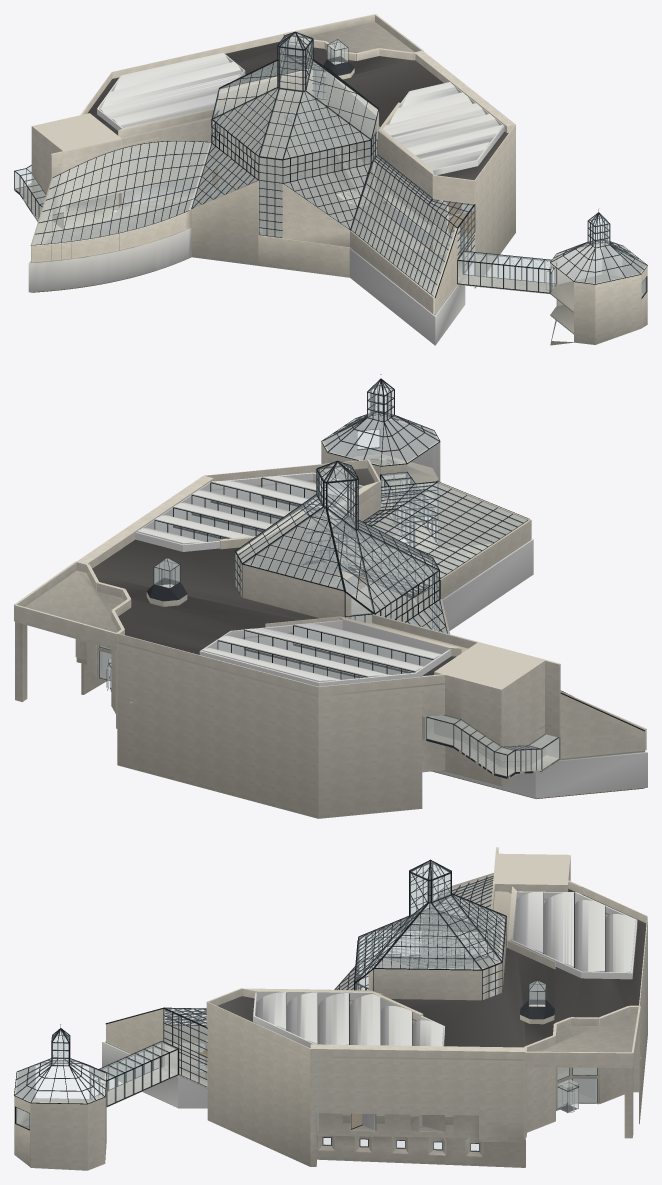
File: building.glb
The picture shows the model from 3 angles, top to bottom: view 1: azimuth 30°, elevation 25°; view 2: azimuth 150°, elevation 25°; view 3: azimuth 270°, elevation 25°; orthographic projection. The views are drawn at different scales.
Visible parts, largest first — view 1: building/walls, building/glass, building/ceilings, building/frames, building/floors; view 2: building/walls, building/glass, building/ceilings, building/frames, building/floors; view 3: building/walls, building/ceilings, building/glass, building/frames, building/floors.
Boxes of the visible parts, x1,y1,x2,y2 form: building/walls: [28, 33, 647, 345]; building/glass: [14, 33, 646, 296]; building/ceilings: [31, 14, 515, 251]; building/frames: [14, 31, 647, 298]; building/floors: [14, 115, 646, 344]; building/walls: [15, 417, 647, 818]; building/glass: [100, 381, 559, 776]; building/ceilings: [14, 463, 641, 760]; building/frames: [99, 374, 644, 778]; building/floors: [100, 416, 647, 798]; building/walls: [14, 847, 647, 1170]; building/ceilings: [26, 853, 647, 1125]; building/glass: [15, 861, 596, 1150]; building/frames: [14, 859, 605, 1151]; building/floors: [15, 909, 641, 1138].
Size of the model in its own units: 80.81 by 39.73 by 93.62.
Materials: 52 (10 with a texture image).
